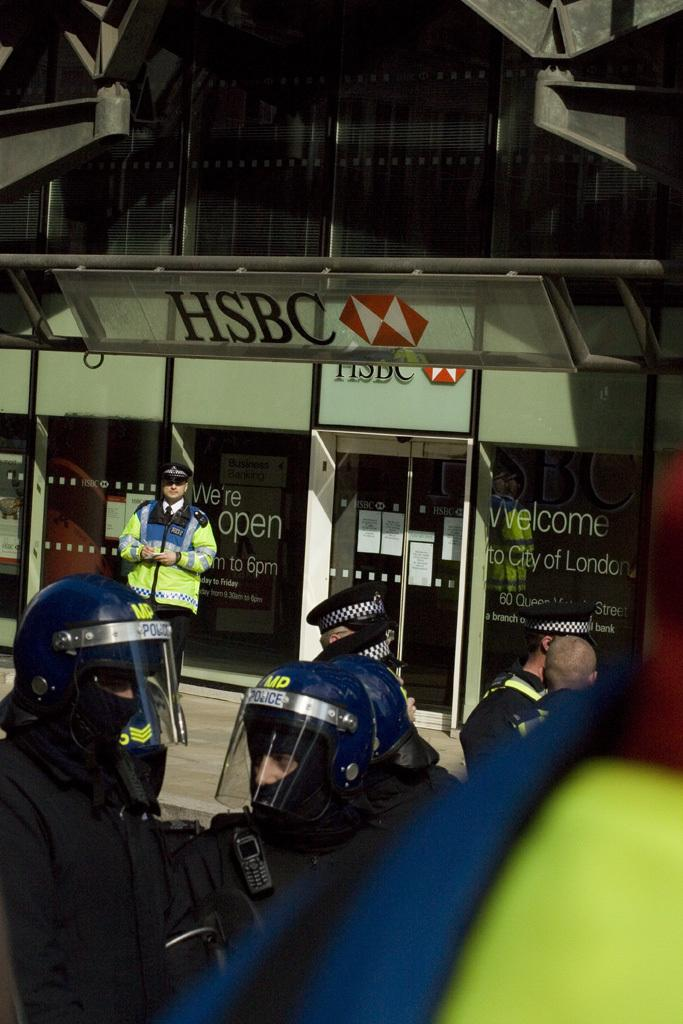helmet: (12, 573, 189, 754), (214, 660, 377, 822)
nohelmet: (541, 634, 599, 700), (156, 461, 194, 502)
